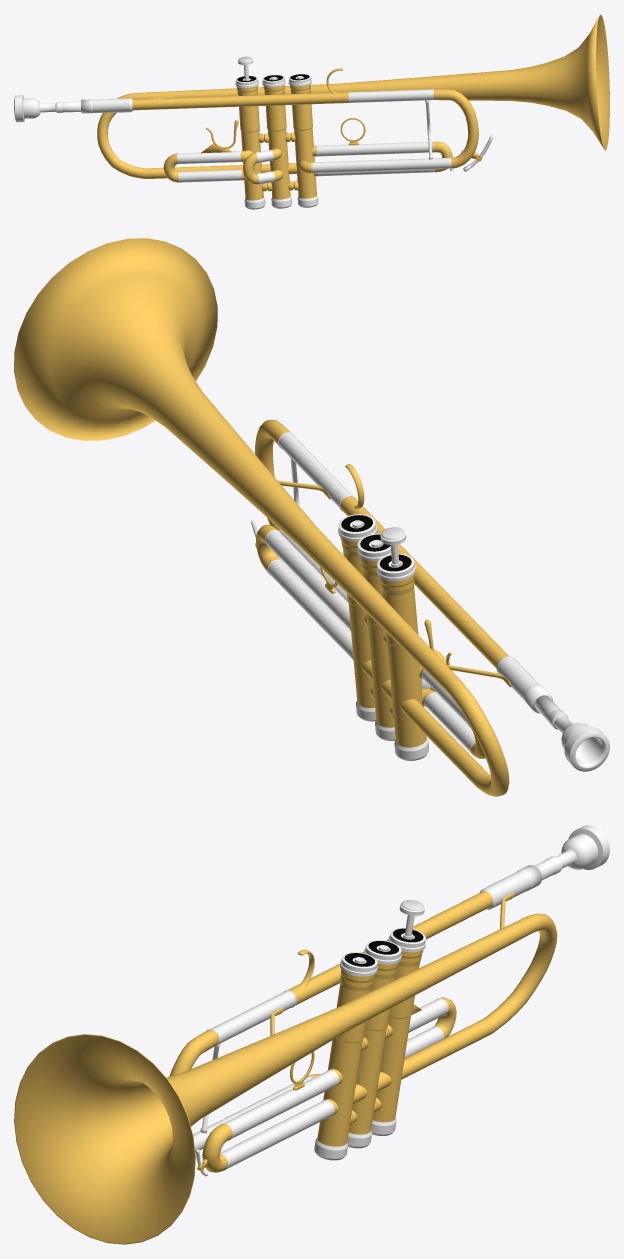
Rendered from New Trumpet.glb.
The picture shows the model from 3 angles, top to bottom: view 1: azimuth 30°, elevation 25°; view 2: azimuth 150°, elevation 25°; view 3: azimuth 270°, elevation 25°; orthographic projection. The views are drawn at different scales.
Visible parts, largest first — view 1: Cylinder, Cylinder.001, Cylinder.006, Cylinder.005, Cylinder.014, Cylinder.003, Cylinder.034, Cylinder.002, Cylinder.013, Torus, Cylinder.007, Cylinder.015; view 2: Cylinder, Cylinder.001, Cylinder.006, Cylinder.005, Cylinder.014, Cylinder.034, Cylinder.037, Cylinder.004, Cylinder.002; view 3: Cylinder, Cylinder.001, Cylinder.006, Cylinder.014, Cylinder.005, Cylinder.002, Cylinder.034, Cylinder.004, Cylinder.013, Cylinder.015.
Part boxes in pixels (bbox=[...]): Cylinder: bbox=[97, 14, 609, 178]; Cylinder.001: bbox=[237, 87, 316, 200]; Cylinder.006: bbox=[312, 141, 452, 176]; Cylinder.005: bbox=[163, 150, 255, 182]; Cylinder.014: bbox=[239, 104, 312, 131]; Cylinder.003: bbox=[243, 148, 283, 184]; Cylinder.034: bbox=[81, 98, 130, 113]; Cylinder.002: bbox=[14, 95, 56, 122]; Cylinder.013: bbox=[244, 198, 318, 208]; Torus: bbox=[201, 120, 238, 153]; Cylinder.007: bbox=[258, 132, 298, 191]; Cylinder.015: bbox=[235, 75, 285, 87]; Cylinder: bbox=[14, 238, 509, 796]; Cylinder.001: bbox=[342, 542, 426, 747]; Cylinder.006: bbox=[256, 524, 353, 659]; Cylinder.005: bbox=[419, 666, 485, 758]; Cylinder.014: bbox=[343, 550, 418, 645]; Cylinder.034: bbox=[496, 656, 552, 713]; Cylinder.037: bbox=[570, 731, 609, 771]; Cylinder.004: bbox=[341, 516, 411, 571]; Cylinder.002: bbox=[554, 715, 604, 766]; Cylinder: bbox=[14, 891, 557, 1244]; Cylinder.001: bbox=[317, 954, 421, 1146]; Cylinder.006: bbox=[202, 1068, 342, 1172]; Cylinder.014: bbox=[336, 963, 419, 1042]; Cylinder.005: bbox=[404, 997, 456, 1058]; Cylinder.002: bbox=[556, 825, 609, 869]; Cylinder.034: bbox=[485, 865, 541, 908]; Cylinder.004: bbox=[344, 929, 423, 966]; Cylinder.013: bbox=[314, 1122, 396, 1158]; Cylinder.015: bbox=[364, 928, 425, 964].
Size of the model in its own units: 8.35 by 3.1 by 5.61.
